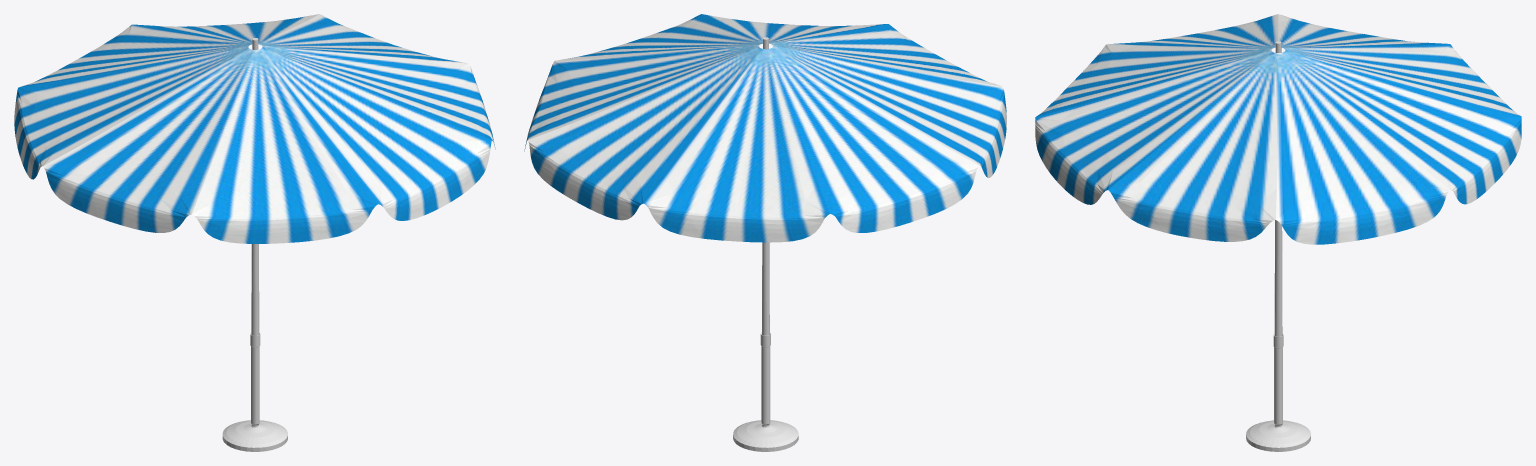
Rendered from sweethome3d-blendswap-cc-0-umbrella-59.glb.
The picture shows the model from 3 angles, left to right: view 1: azimuth 30°, elevation 25°; view 2: azimuth 150°, elevation 25°; view 3: azimuth 270°, elevation 25°; orthographic projection.
Parts seen in each view (by area): view 1: Umbrella_Cylinder.001, Umbrella_Stand_Cylinder; view 2: Umbrella_Cylinder.001, Umbrella_Stand_Cylinder; view 3: Umbrella_Cylinder.001, Umbrella_Stand_Cylinder.
Part boxes in pixels (x1,y1,x2,y2): Umbrella_Cylinder.001: [14, 14, 495, 243]; Umbrella_Stand_Cylinder: [222, 38, 287, 451]; Umbrella_Cylinder.001: [524, 14, 1006, 242]; Umbrella_Stand_Cylinder: [733, 37, 798, 451]; Umbrella_Cylinder.001: [1035, 14, 1521, 244]; Umbrella_Stand_Cylinder: [1246, 41, 1310, 451].
Size of the model in its own units: 223 by 200 by 223.
Materials: 2 (1 with a texture image).
